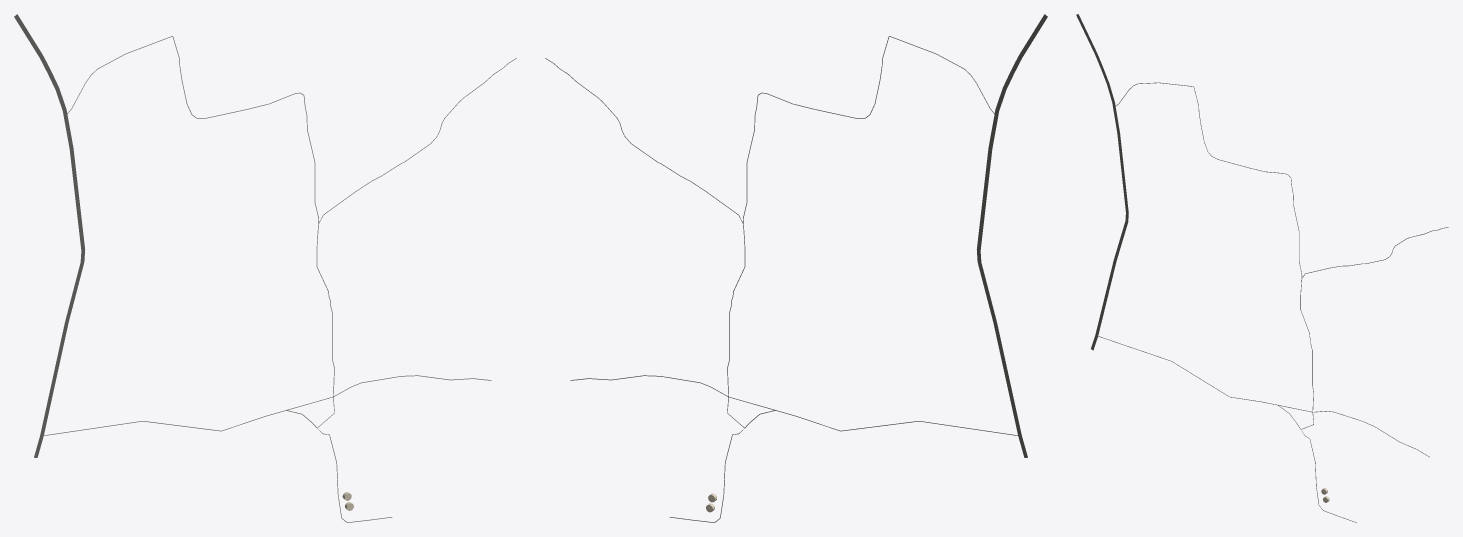
The model's file is historic-palestine-05_22_3468_3168.glb.
The picture shows the model from 3 angles, left to right: view 1: azimuth 30°, elevation 25°; view 2: azimuth 150°, elevation 25°; view 3: azimuth 330°, elevation 25°; orthographic projection. The views are drawn at different scales.
Visible parts, largest first — view 1: Road 3612; view 2: Road 3612; view 3: Road 3612.
Part boxes in pixels (left/top/right/bottom): Road 3612: left=14, top=14, right=85, bottom=457; Road 3612: left=976, top=14, right=1047, bottom=457; Road 3612: left=1076, top=14, right=1128, bottom=350.
Bounding box in the file's own units: 1044 × 1180 × 8.7.
